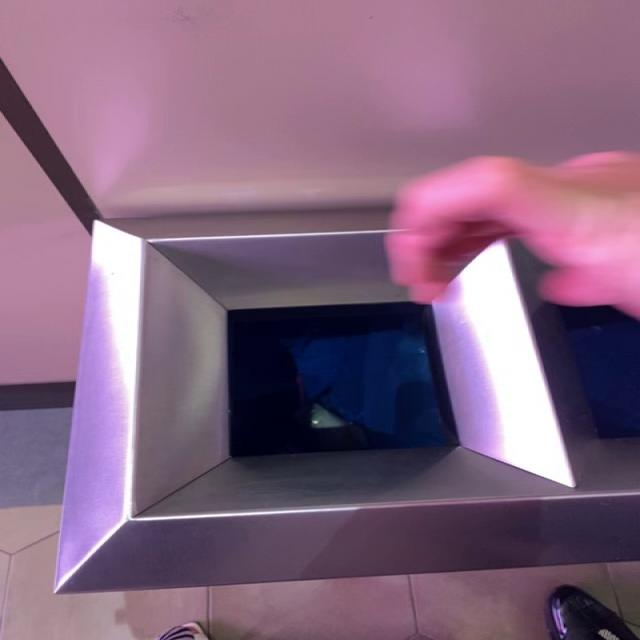bin: (55, 210, 639, 594)
metal: (309, 404, 348, 430)
